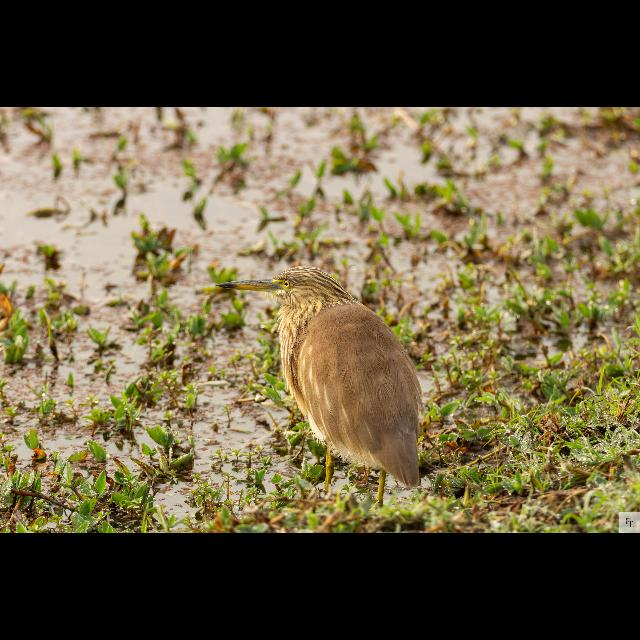heron: (217, 268, 421, 497)
